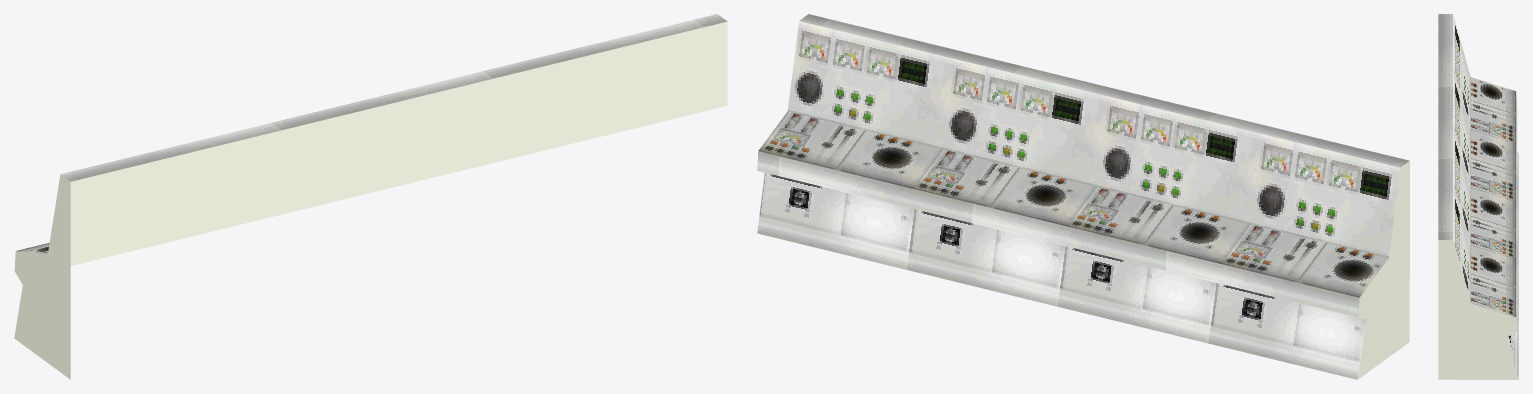
The model's file is CONTROL01.glb.
3 views of the same model, side by side, from view 1: azimuth 30°, elevation 25°; view 2: azimuth 150°, elevation 25°; view 3: azimuth 270°, elevation 25° (orthographic). The views are drawn at different scales.
Parts seen in each view (by area): view 1: CONTROL01; view 2: CONTROL01; view 3: CONTROL01.
Boxes of the visible parts, x1,y1,x2,y2 form: CONTROL01: (14,14,727,379); CONTROL01: (757,14,1409,379); CONTROL01: (1438,14,1518,379).
Size of the model in its own units: 663 by 191 by 98.99.
2 materials, 2 textured.
